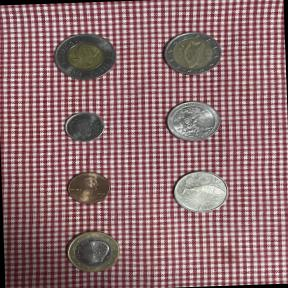1 Euro-B: (58, 225, 128, 278)
2 Euro-B: (152, 27, 230, 86)
Canada-10cent-B: (58, 105, 113, 148)
Canada-2Dollar-B: (42, 26, 128, 90)
Croatia-2Kune-B: (163, 165, 234, 221)
US-1cent-B: (58, 165, 115, 210)
US-25cent-B: (154, 92, 230, 151)
